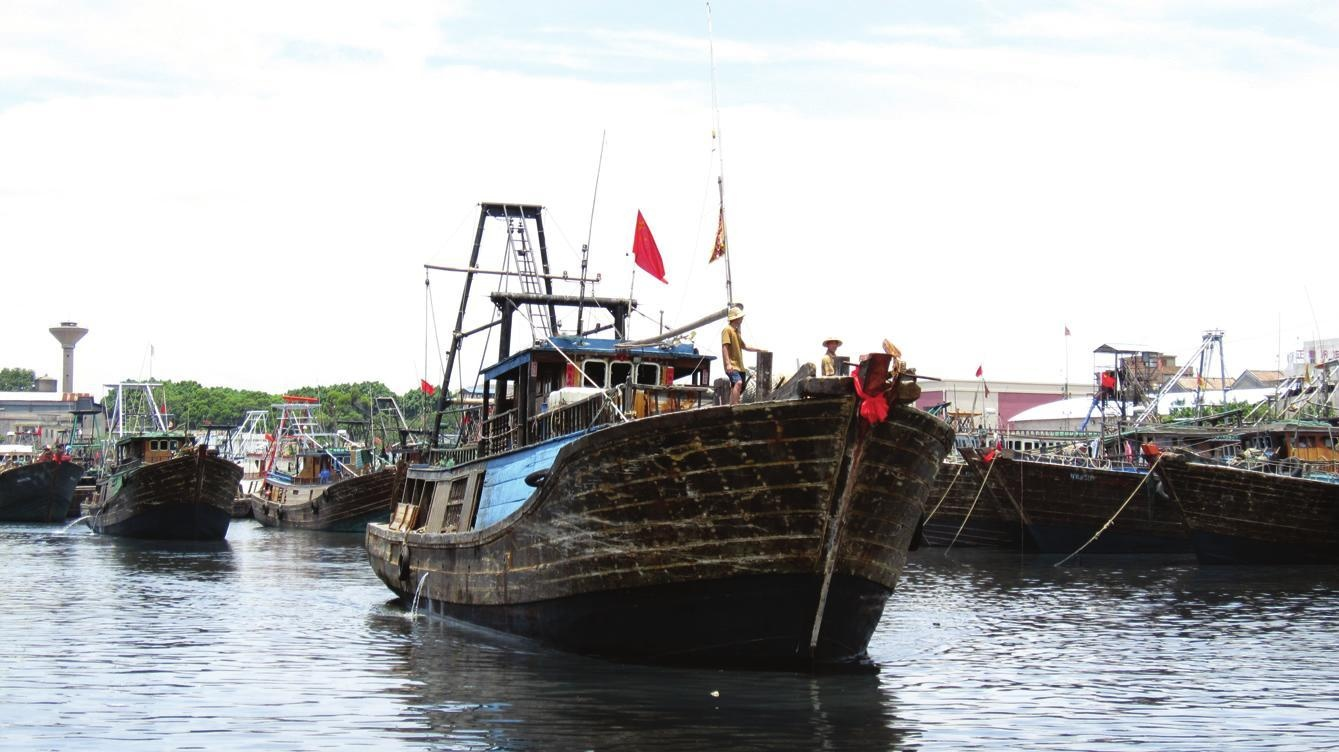otherboat: (338, 222, 977, 667), (1123, 305, 1339, 582), (65, 371, 269, 543), (248, 395, 398, 544)
